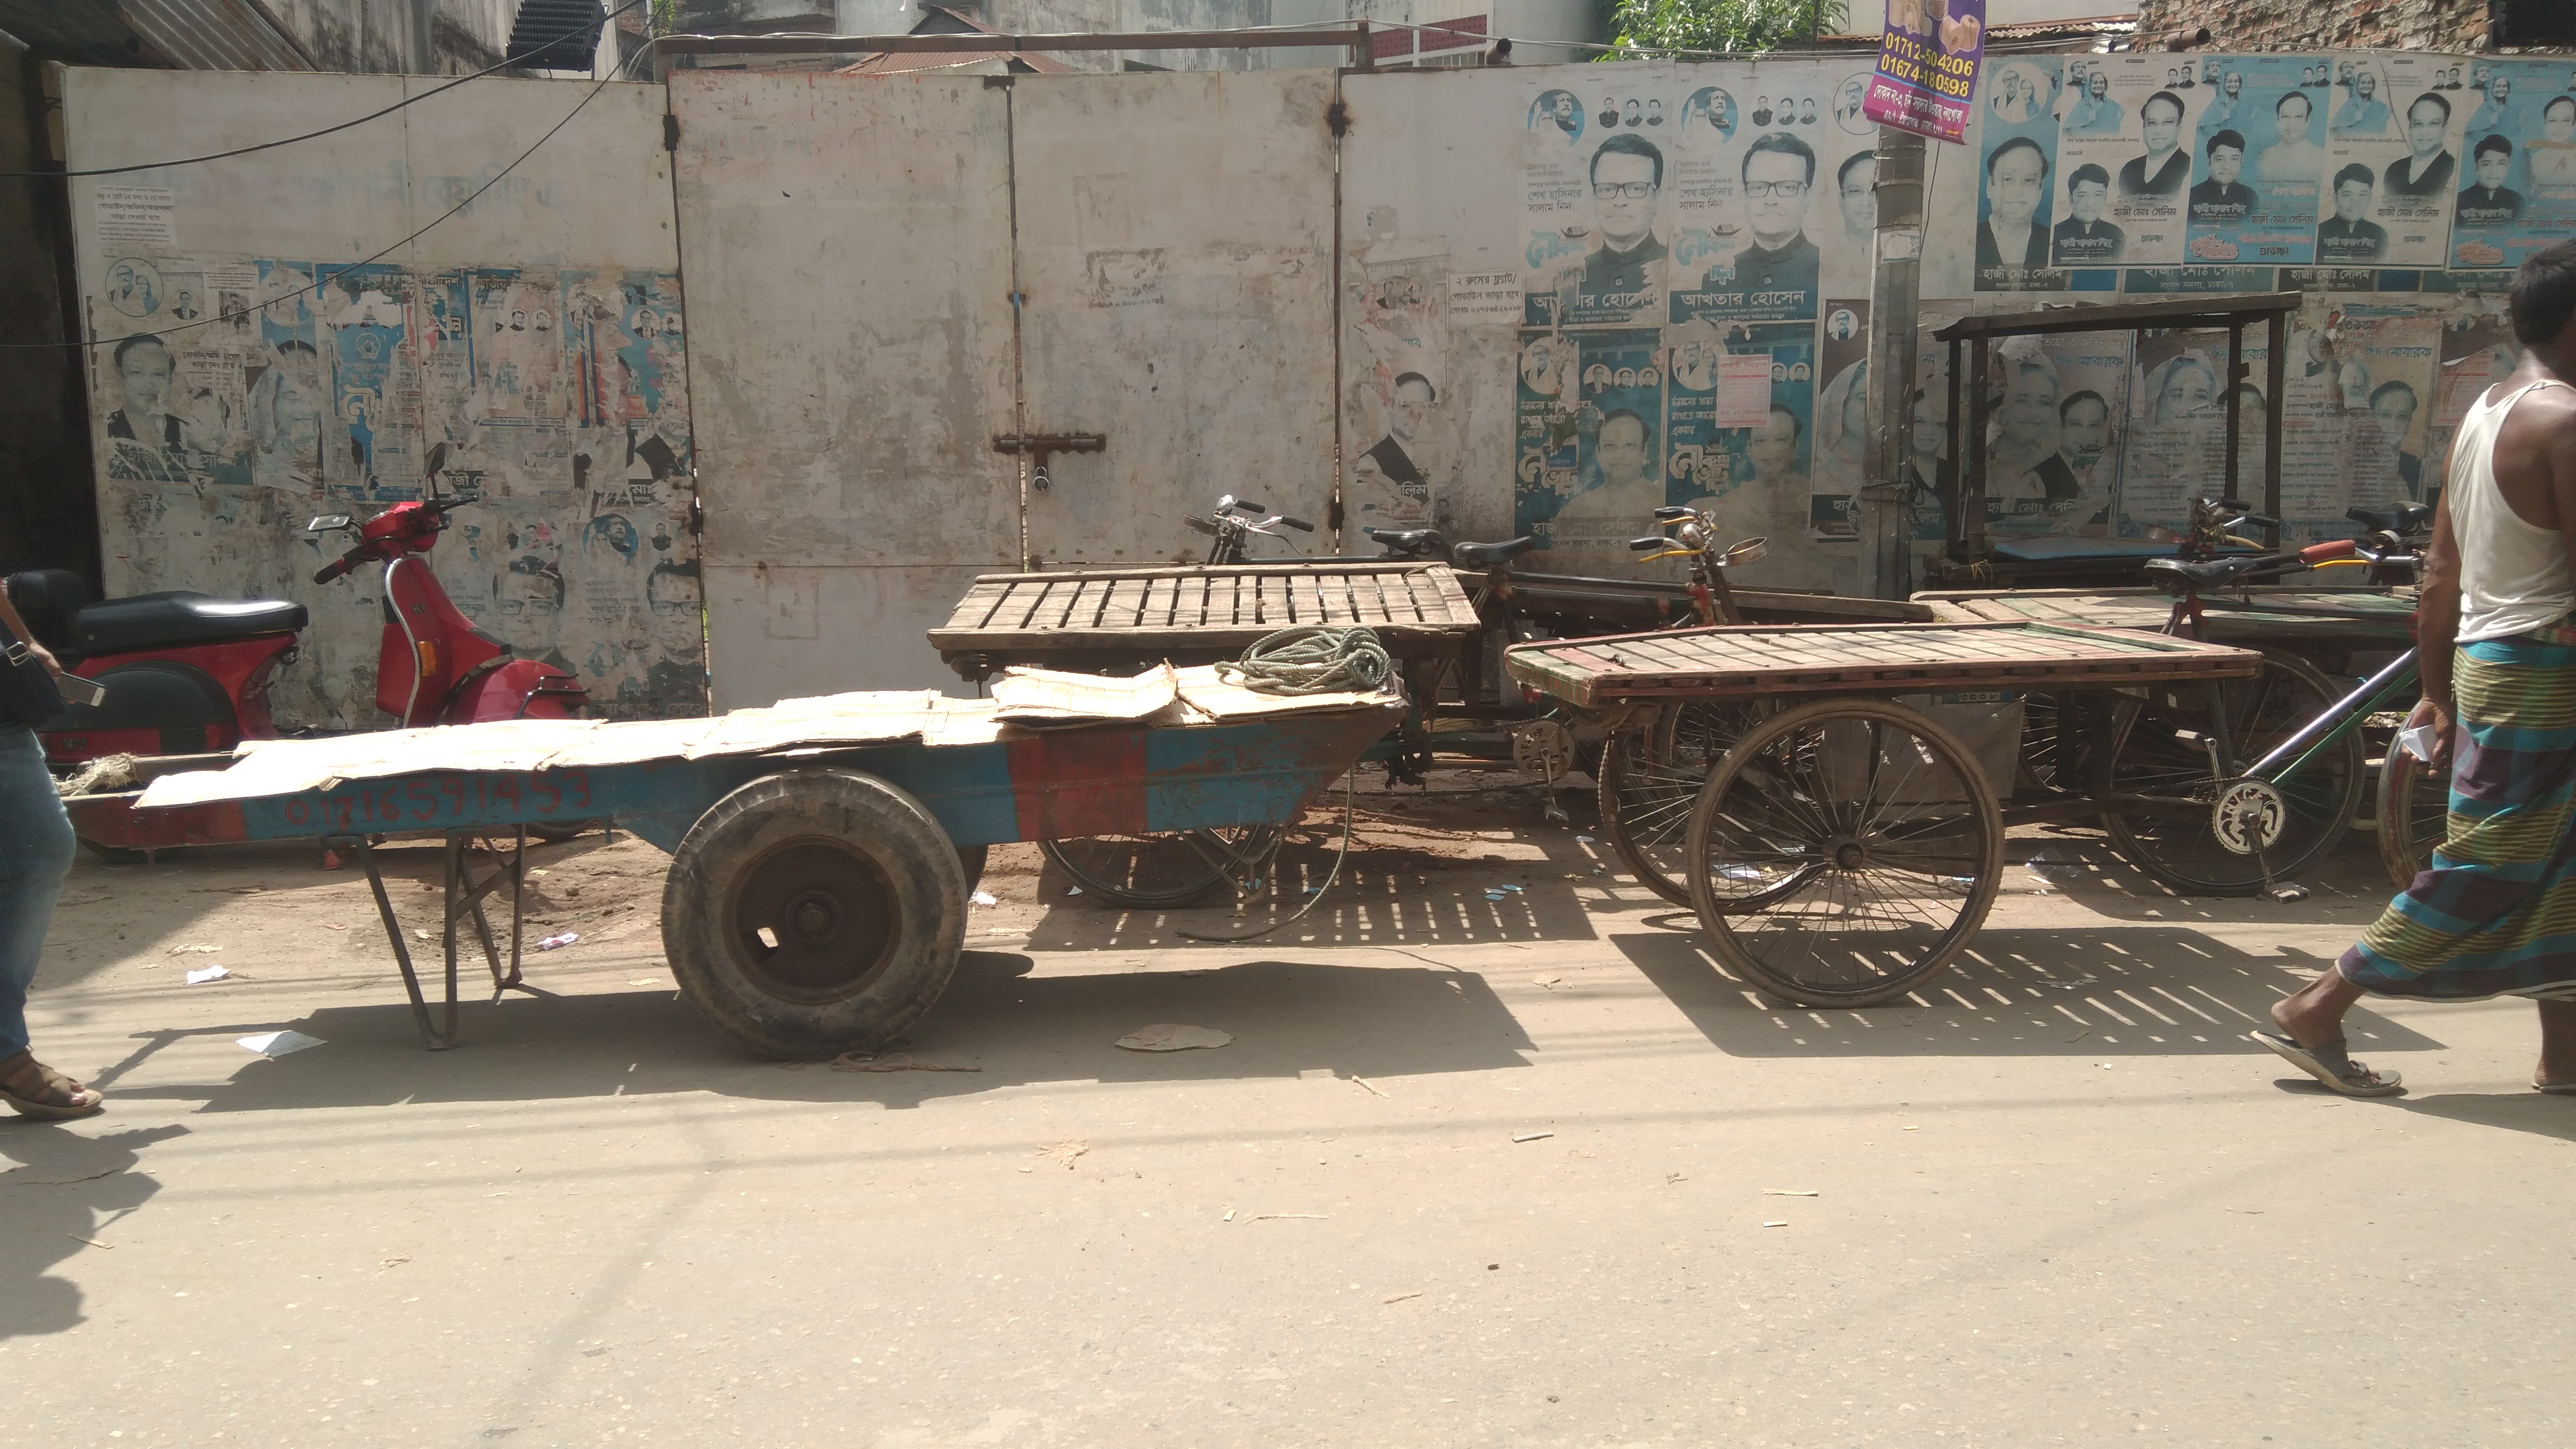bike: (39, 478, 644, 886)
van: (1488, 538, 2535, 1051), (915, 511, 1778, 711)
wheelbarrow: (51, 679, 1437, 1074)
